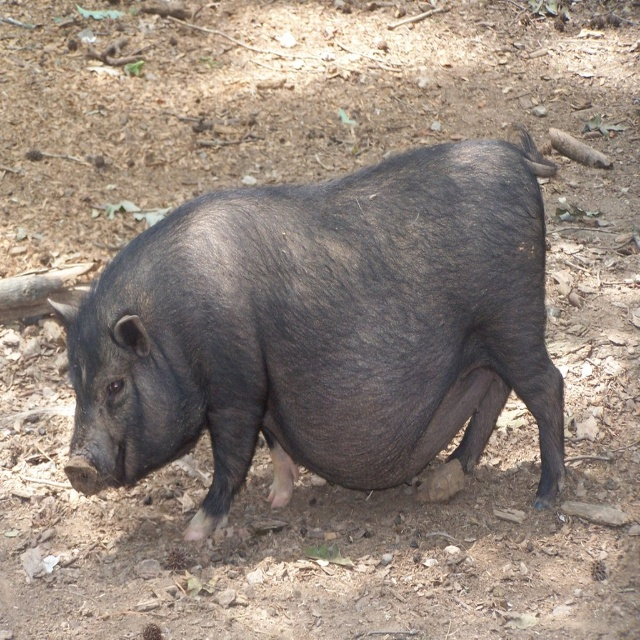Pig: (48, 124, 566, 541)
